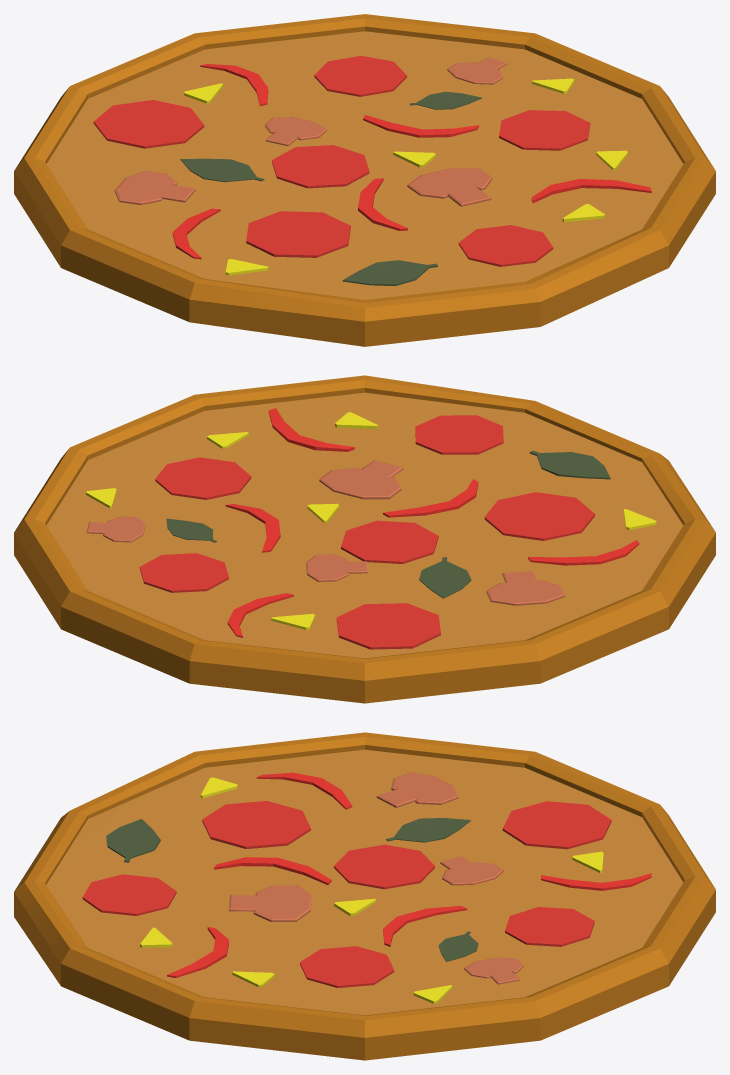
The model's file is SM_Food_Pizza_01.fbx.
3 renders of one model, top to bottom at view 1: azimuth 30°, elevation 25°; view 2: azimuth 150°, elevation 25°; view 3: azimuth 270°, elevation 25°, orthographic.
Visible parts, largest first — view 1: SM_Food_Pizza_01; view 2: SM_Food_Pizza_01; view 3: SM_Food_Pizza_01.
Boxes of the visible parts, bbox=[...] form: SM_Food_Pizza_01: bbox=[14, 14, 715, 346]; SM_Food_Pizza_01: bbox=[14, 375, 715, 703]; SM_Food_Pizza_01: bbox=[14, 732, 715, 1060].
Bounding box in the file's own units: 0.2556 × 0.0163 × 0.2556.
